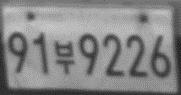1: (32, 30, 49, 76)
2: (125, 33, 149, 79), (102, 33, 125, 77)
6: (149, 33, 171, 78)
9: (7, 30, 28, 74), (79, 32, 99, 77)
부: (52, 40, 76, 75)
